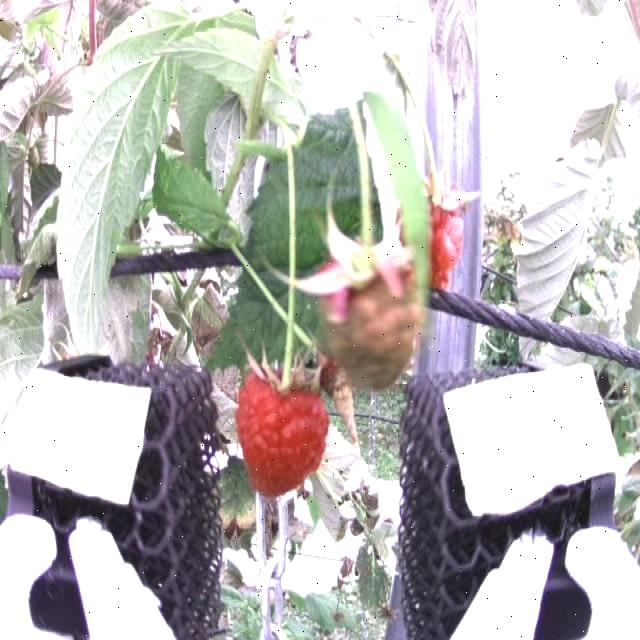Riped berries: (233, 358, 331, 498), (396, 172, 474, 294)
